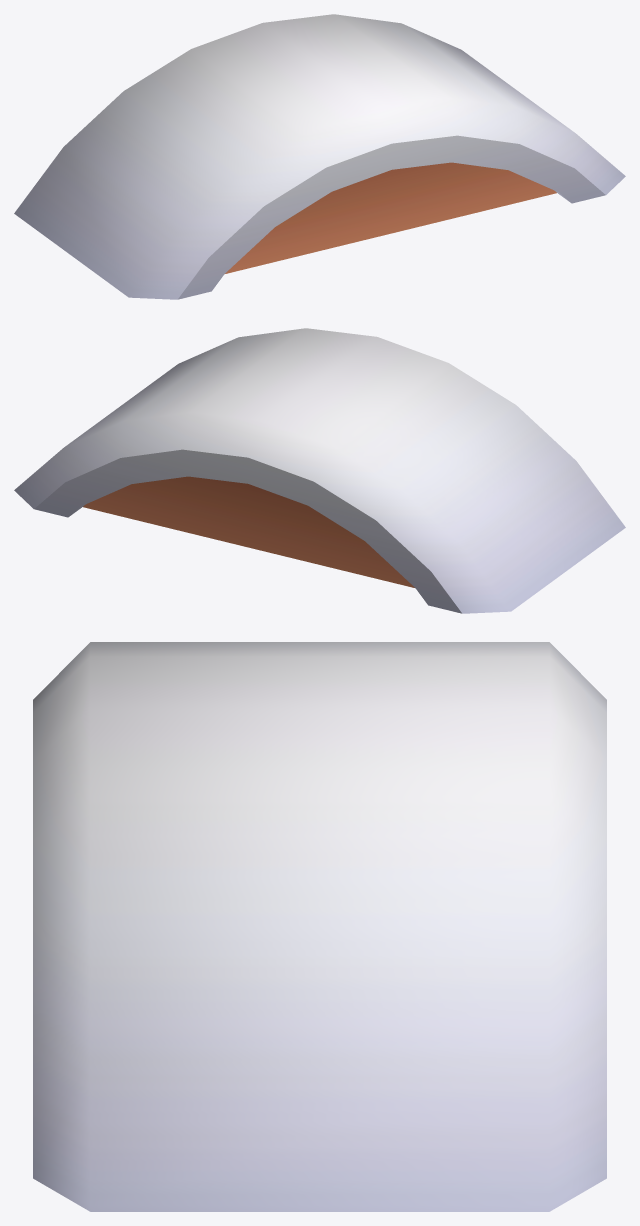
The model's file is kenney-platformer-block-snow-curve-low.glb.
3 renders of one model, top to bottom at view 1: azimuth 30°, elevation 25°; view 2: azimuth 150°, elevation 25°; view 3: azimuth 270°, elevation 25°, orthographic. The views are drawn at different scales.
Visible parts, largest first — view 1: block-snow-curve-low; view 2: block-snow-curve-low; view 3: block-snow-curve-low.
Part boxes in pixels (box(x1,y1,x2,y2)): block-snow-curve-low: box(14, 14, 625, 299); block-snow-curve-low: box(14, 328, 625, 613); block-snow-curve-low: box(33, 642, 606, 1211).
Size of the model in its own units: 2 by 0.5001 by 1.
Materials: 1 (1 with a texture image).
